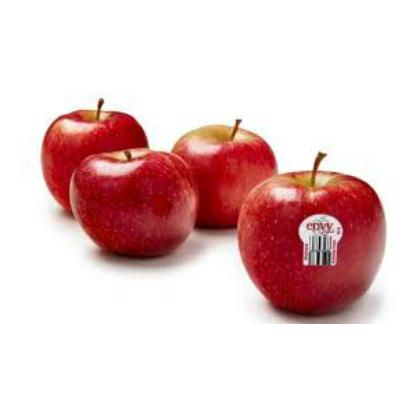apple: (236, 169, 388, 310), (72, 146, 190, 262), (41, 106, 145, 212), (174, 119, 272, 220)
